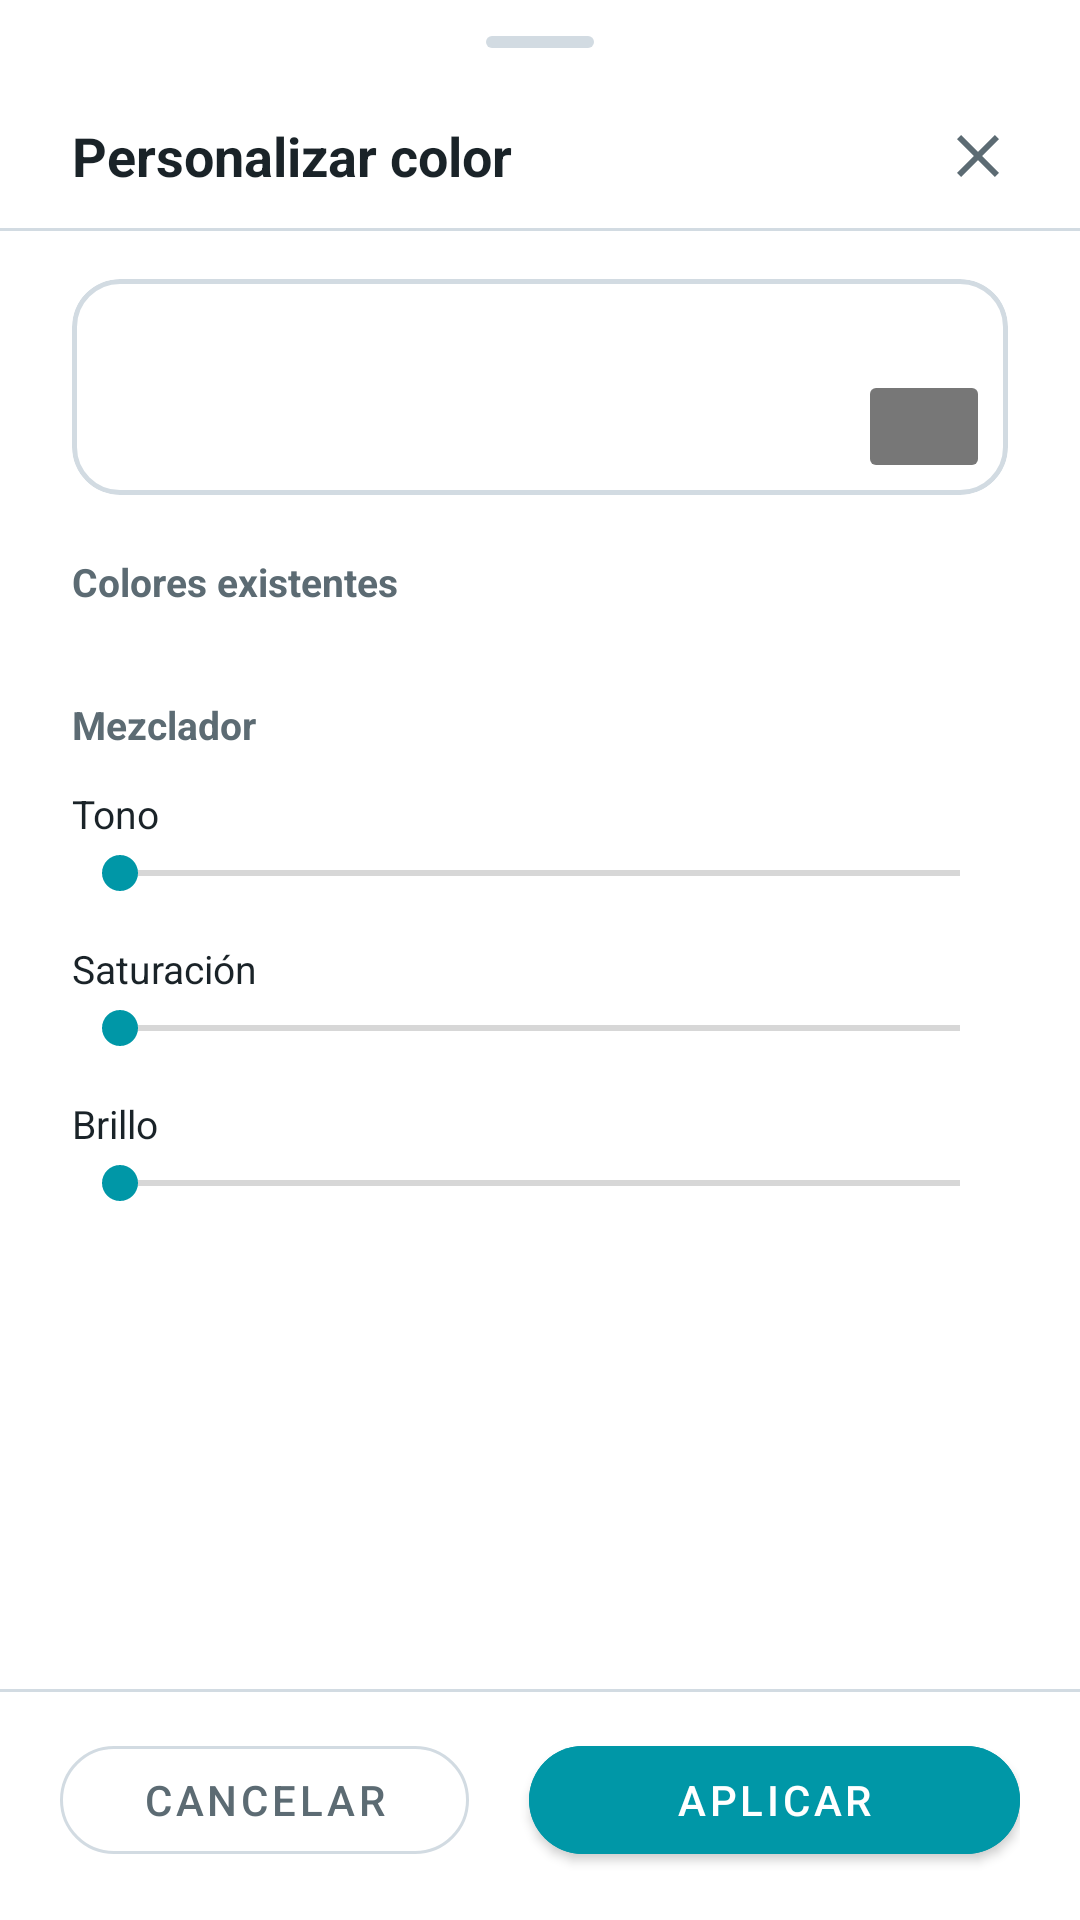

Named icons in this screenshot (1080 × 1920) and their centers, (x,y):
Cancelar: (978,156)
